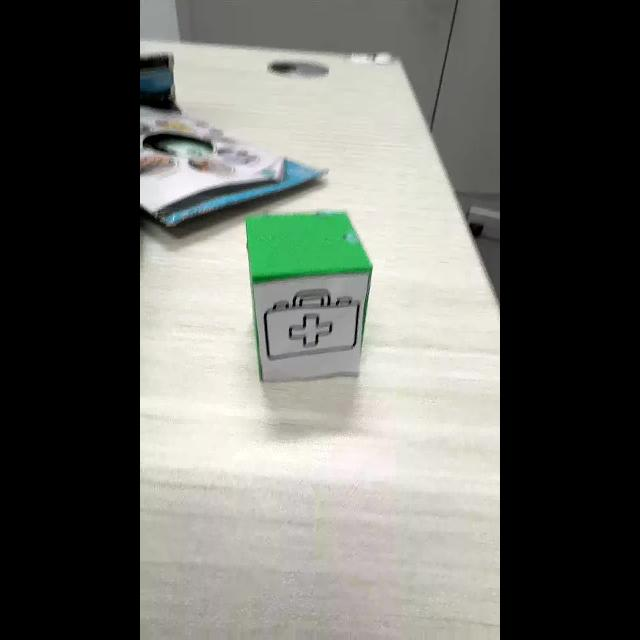Medkit: (264, 289, 360, 360)
